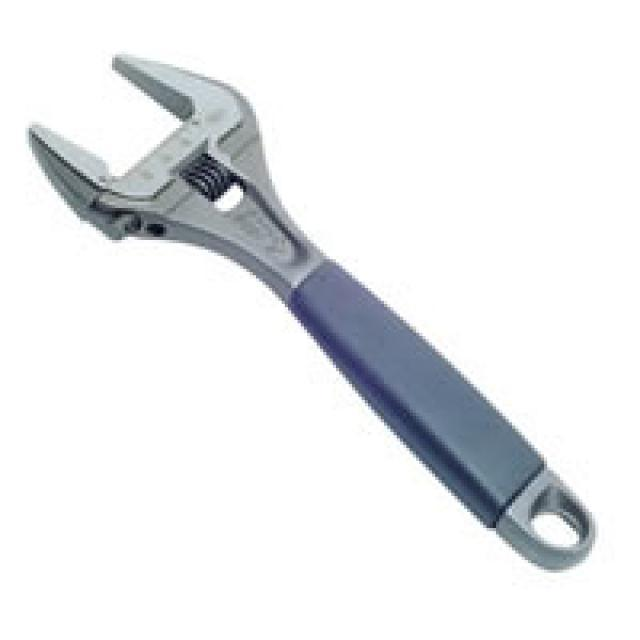wrench: (24, 44, 604, 576)
